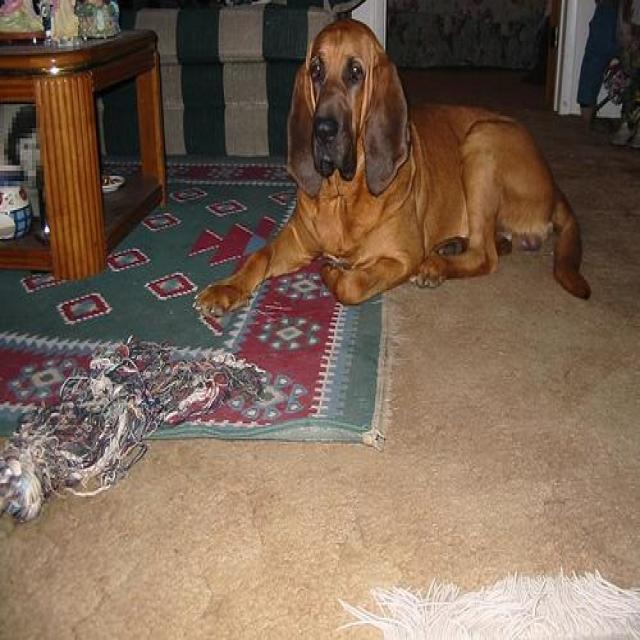bloodhound: (191, 17, 594, 326)
